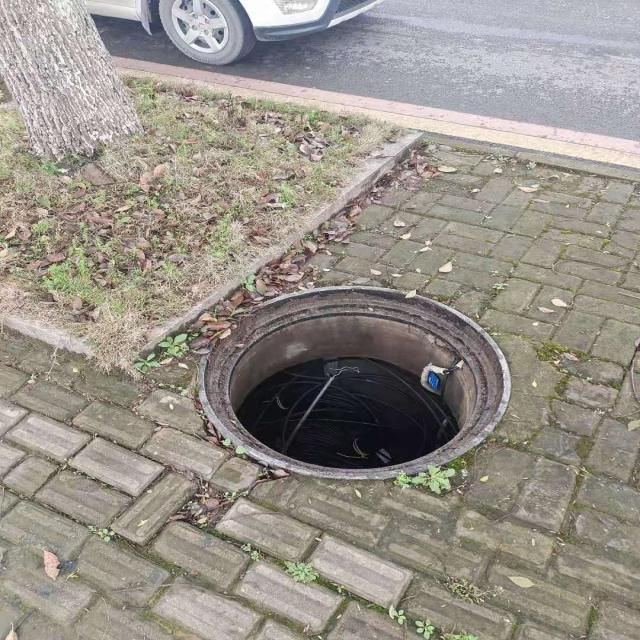Faulty: (194, 286, 508, 480)
